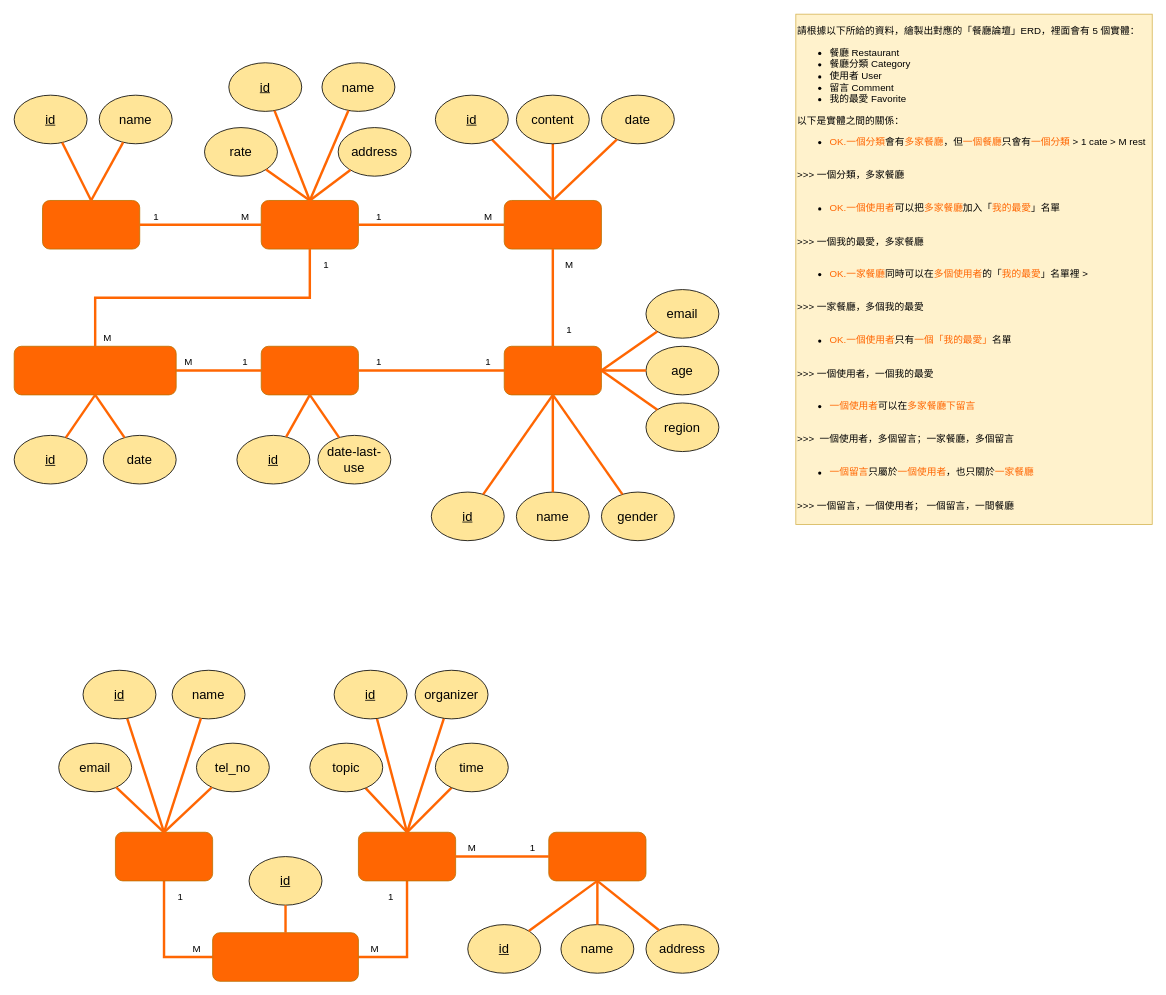
The diagram is 1166 pixels wide and 995 high, and some of its shapes have lost their labels. Here are the shapes that lost their labels. From the top down, the centre of each, then its label:
[91,224]: Category
[309,224]: Restaurant
[552,224]: Comment
[94,370]: FavoriteRestaurant
[309,370]: Favorite
[552,370]: User
[164,856]: Participant
[407,856]: Event
[597,856]: Venue
[285,956]: ParticipatedEvent
